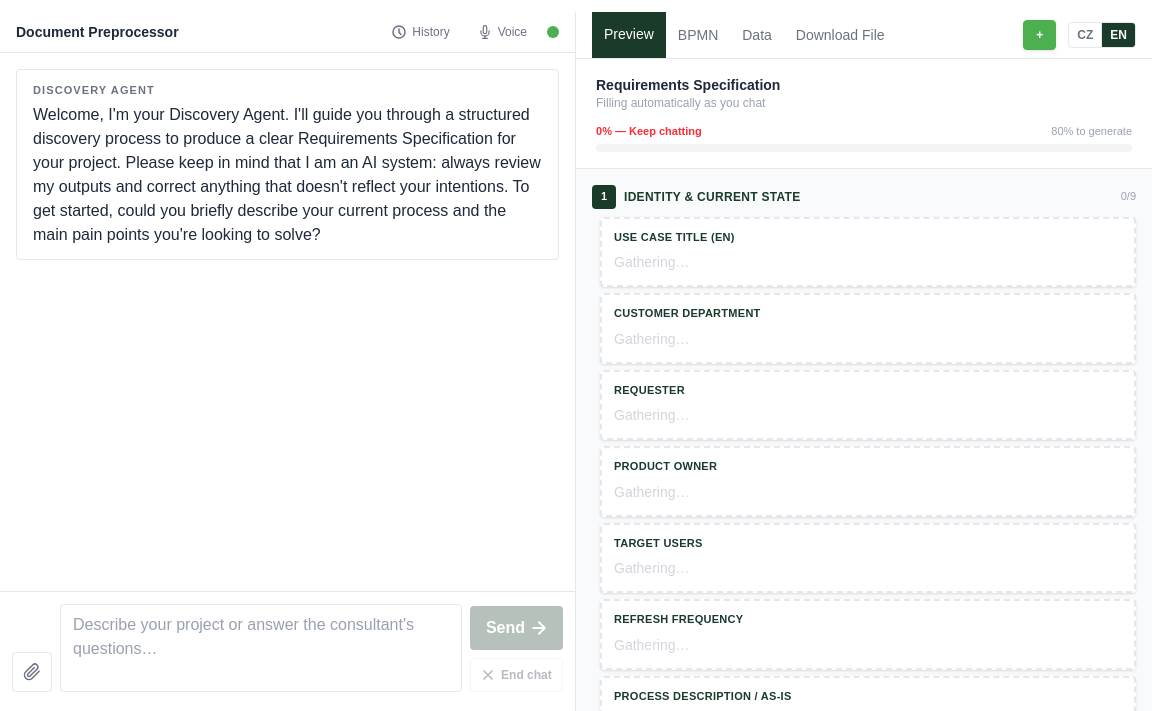
it: ChatPage — message rendering › shows assistant message bubble after stream completes
In the text box with placeholder "Describe your project or answer the consultant's questions…": (261, 648) x1=60 y1=604 x2=462 y2=692, type "Hello"
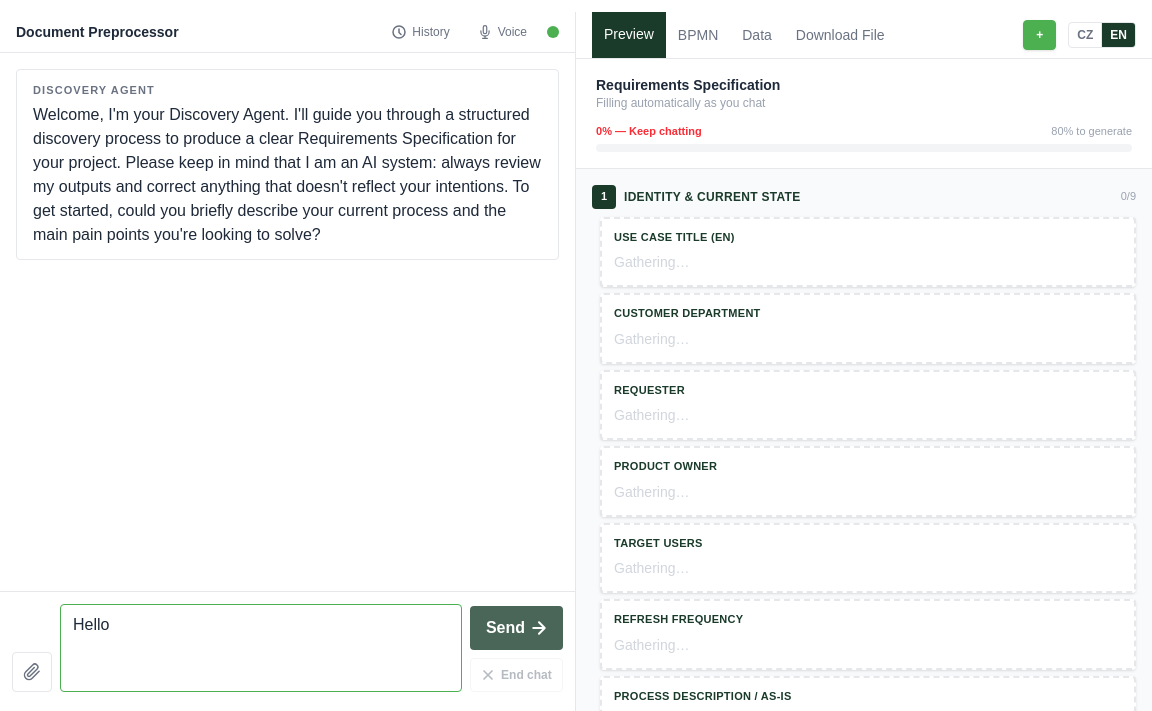
Click the button "Send": (516, 628) x1=470 y1=606 x2=563 y2=650
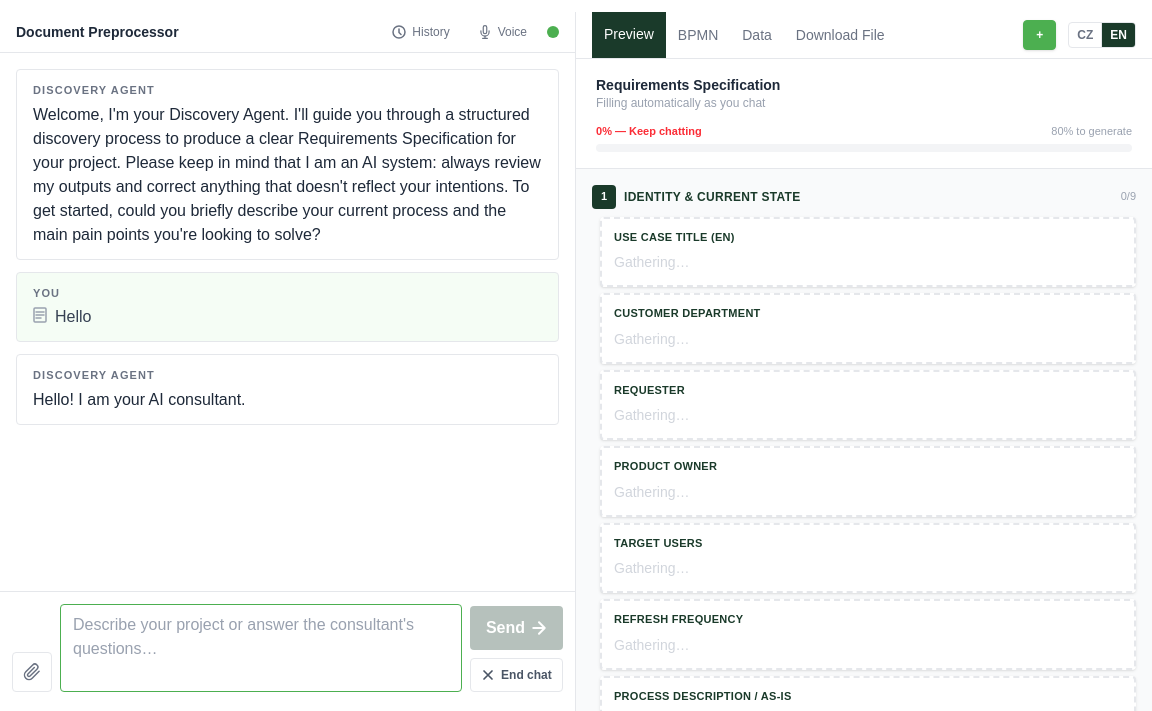
Result: the text "Hello! I am your AI consultant." is shown at x1=33 y1=390 x2=246 y2=408
